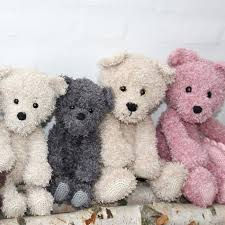teddy: (87, 46, 179, 210), (156, 40, 225, 210), (1, 60, 63, 219), (45, 71, 114, 209)
